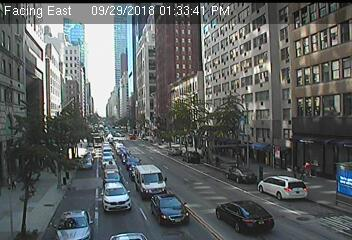car: (216, 200, 275, 235), (50, 211, 94, 240), (150, 194, 189, 226), (258, 176, 307, 201), (135, 165, 167, 200), (101, 183, 132, 211), (225, 167, 256, 183), (103, 170, 123, 188), (129, 165, 145, 181), (182, 151, 201, 164), (126, 156, 142, 169), (104, 161, 118, 174), (100, 156, 115, 167), (167, 147, 182, 156), (79, 159, 92, 169), (82, 153, 93, 161)
